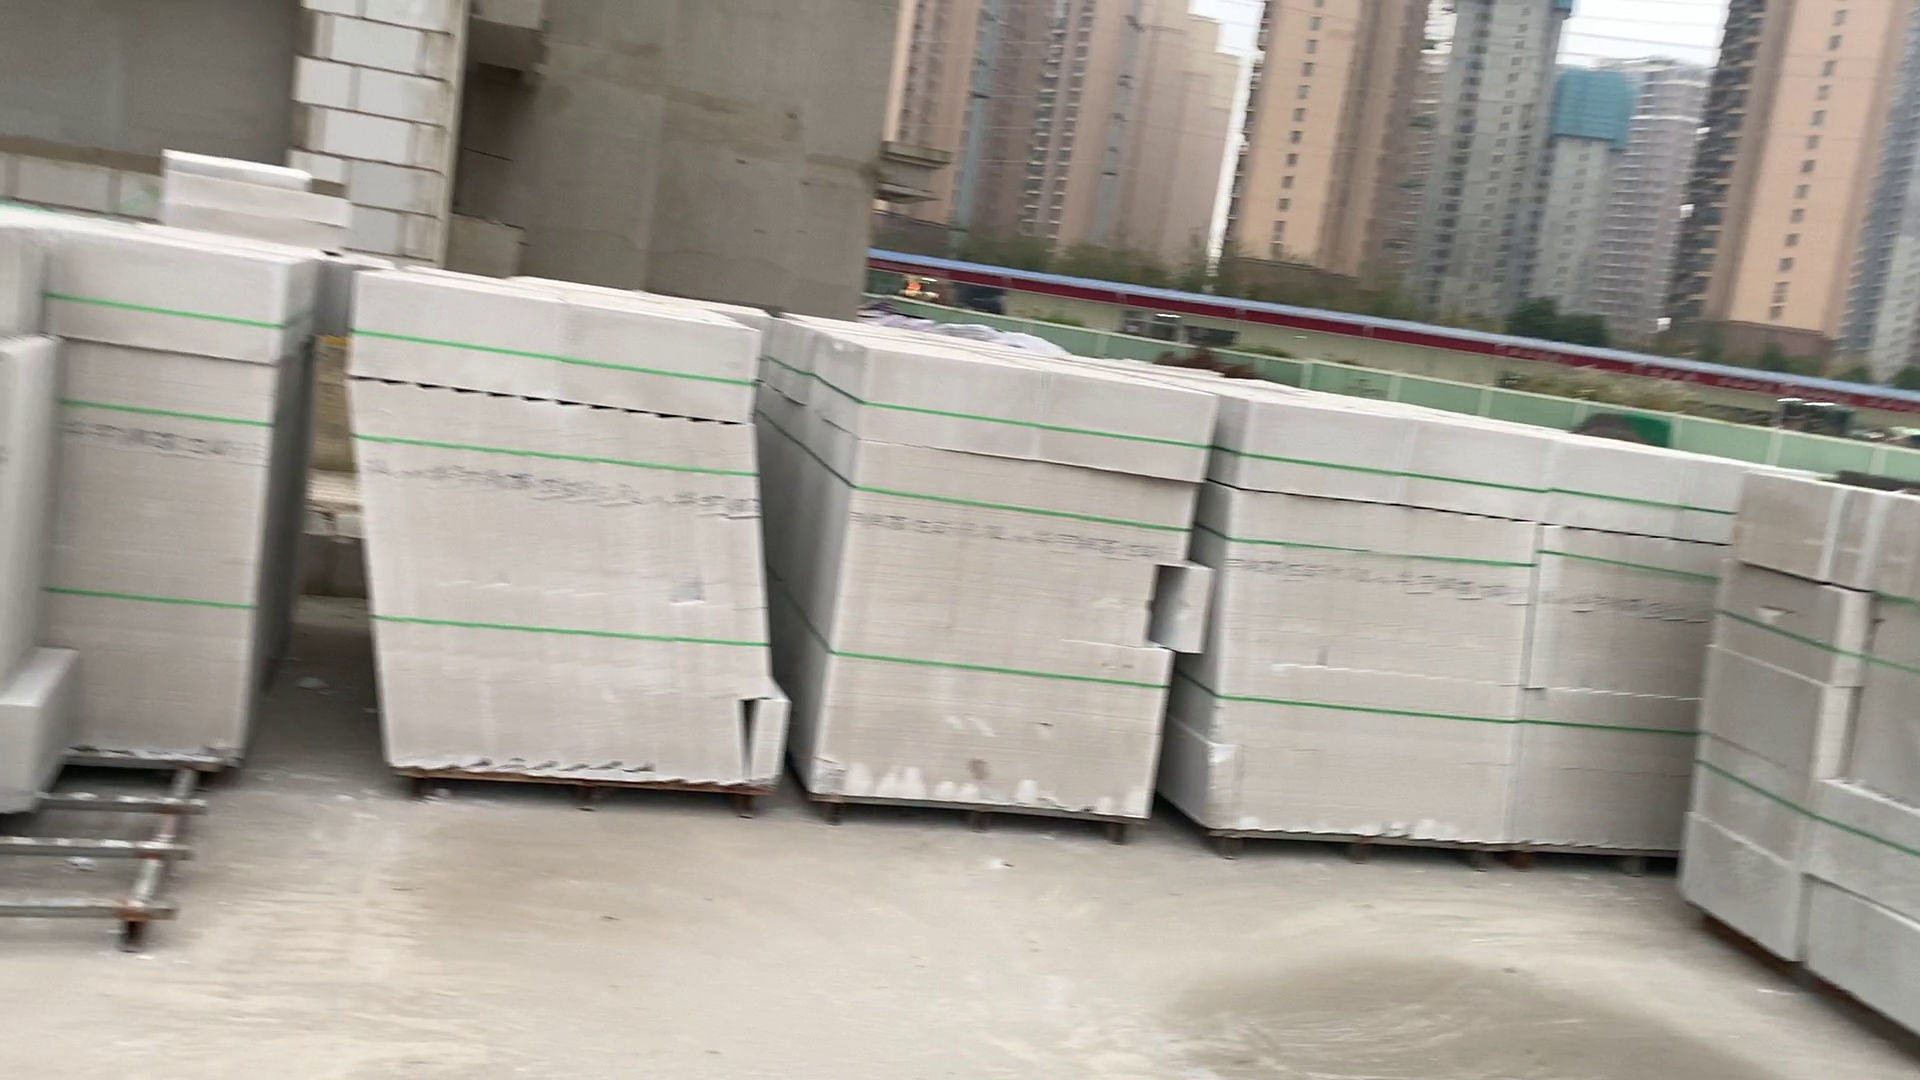brickwork: (360, 284, 789, 815), (827, 330, 1176, 837), (7, 212, 268, 816), (1216, 392, 1526, 853), (1702, 476, 1920, 1014), (1534, 429, 1726, 877)
